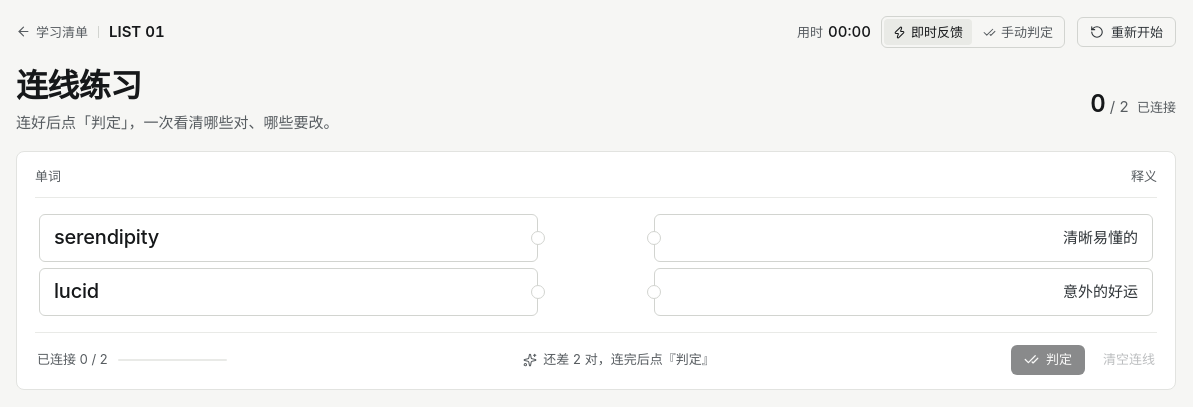
Test: 练习反馈方式 › 手动判定：连线不暴露对错，连满前不能判定
Expected: the button "判定" is disabled, [1011,345,1085,375]
Click the button "serendipity". click: click(106, 237)
box: [39,214,538,262]
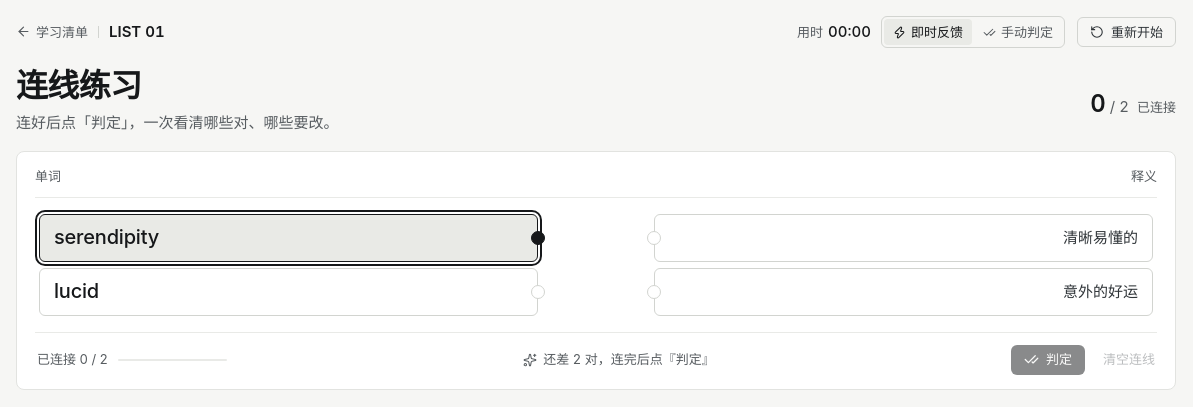
Click the button "意外的好运". click: click(1100, 291)
box: [654,268,1153,316]
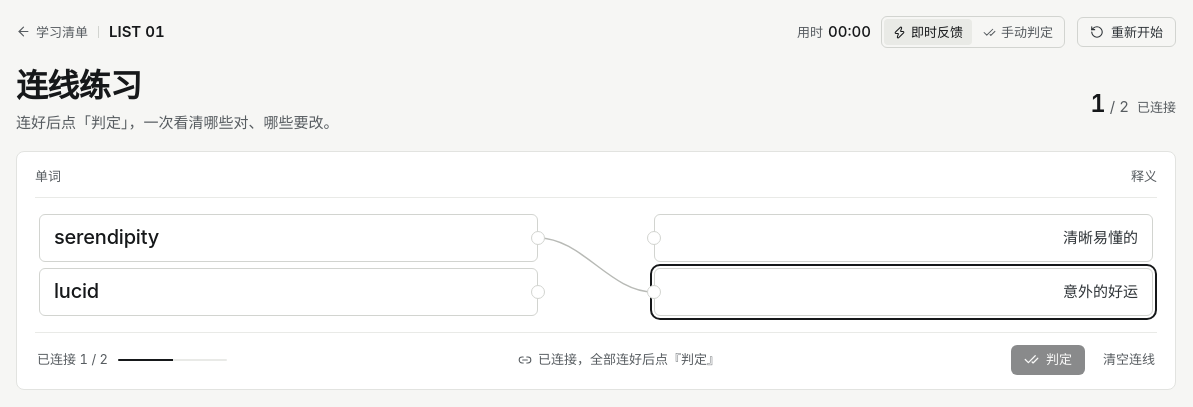
Expected: the button "判定" is disabled, [1011,345,1085,375]
Now the button with aria-label "serendipity，已连接，待判定" is shown, box [39,214,538,262]
Now the button with aria-label "意外的好运，已连接，待判定" is shown, box [654,268,1153,316]
Click the button "lucid". click: click(77, 291)
box: [39,268,538,316]
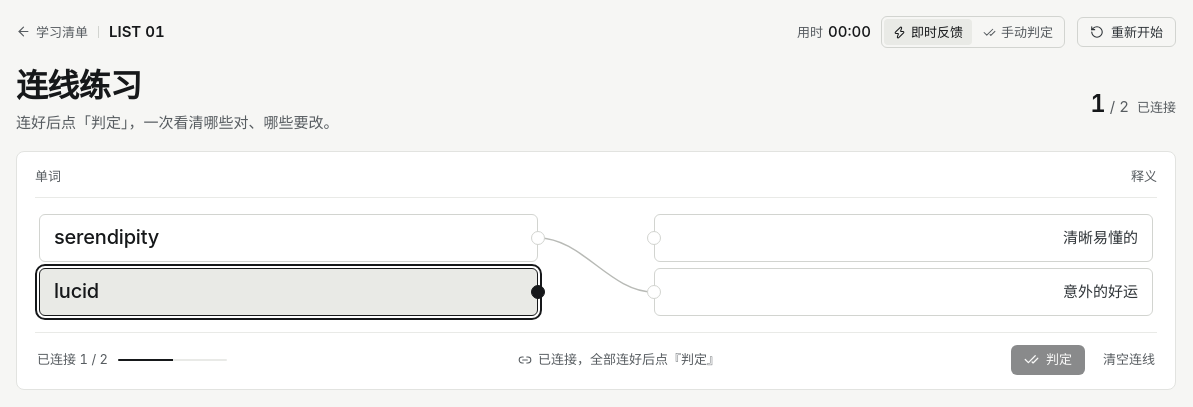
Click the button "清晰易懂的". click: click(1100, 237)
box: [654,214,1153,262]
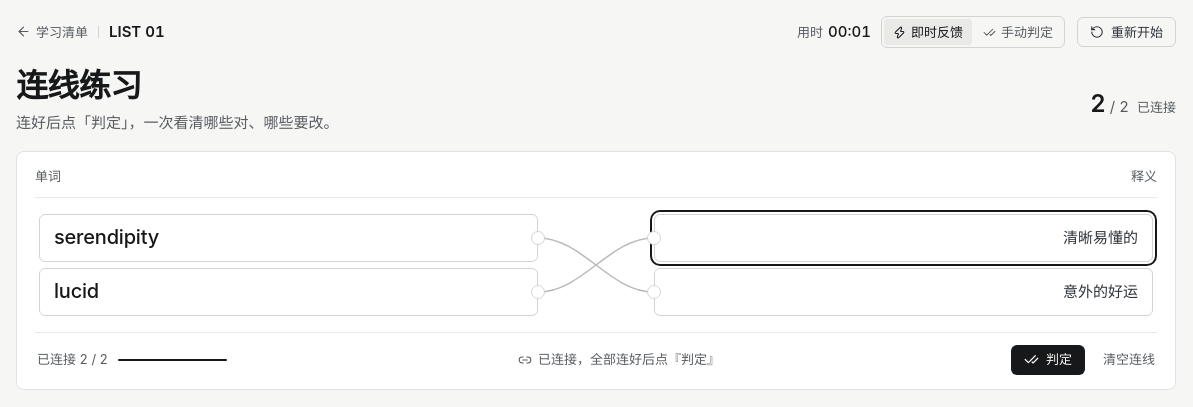
Now the button "判定" is enabled, box [1011,345,1085,375]
